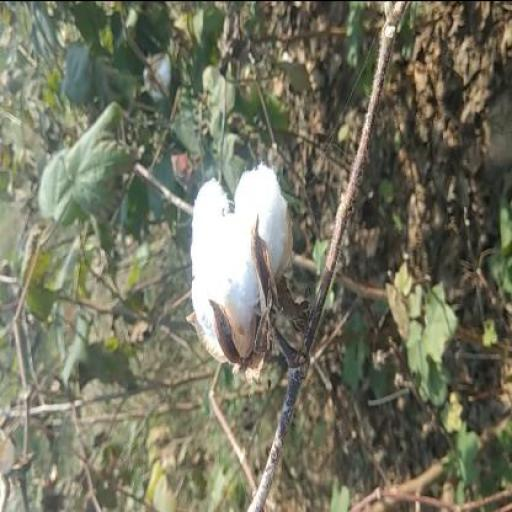cotton_ready: (165, 148, 345, 394)
